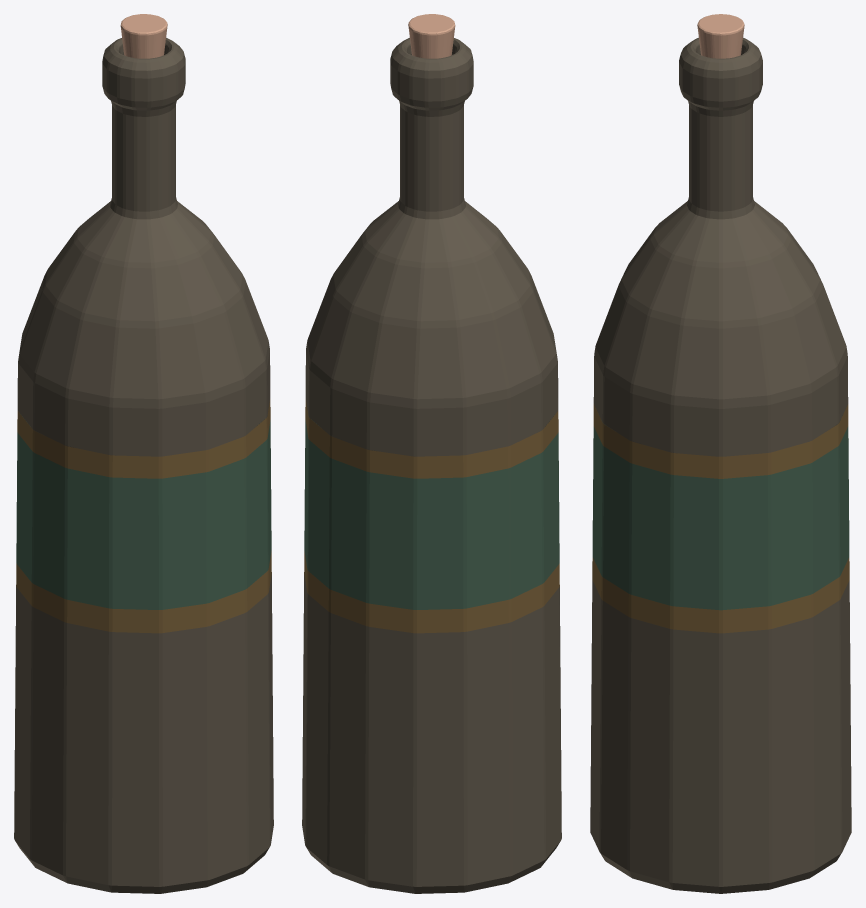
The model's file is alcohol_bottle_5_partyassetst.fbx.
The picture shows the model from 3 angles, left to right: view 1: azimuth 30°, elevation 25°; view 2: azimuth 150°, elevation 25°; view 3: azimuth 270°, elevation 25°; orthographic projection.
Parts seen in each view (by area): view 1: alcohol_bottle_5_partyassetst, Cube.019, Cube.061; view 2: alcohol_bottle_5_partyassetst, Cube.019, Cube.061; view 3: alcohol_bottle_5_partyassetst, Cube.019, Cube.061.
Boxes of the visible parts, x1=… form: alcohol_bottle_5_partyassetst: x1=14, y1=14, x2=273, y2=893; Cube.019: x1=16, y1=416, x2=271, y2=609; Cube.061: x1=16, y1=399, x2=271, y2=633; alcohol_bottle_5_partyassetst: x1=302, y1=14, x2=561, y2=893; Cube.019: x1=304, y1=416, x2=559, y2=609; Cube.061: x1=304, y1=399, x2=559, y2=633; alcohol_bottle_5_partyassetst: x1=590, y1=14, x2=851, y2=893; Cube.019: x1=592, y1=415, x2=849, y2=610; Cube.061: x1=592, y1=404, x2=849, y2=633.
Size of the model in its own units: 10.47 by 36.15 by 10.47.
